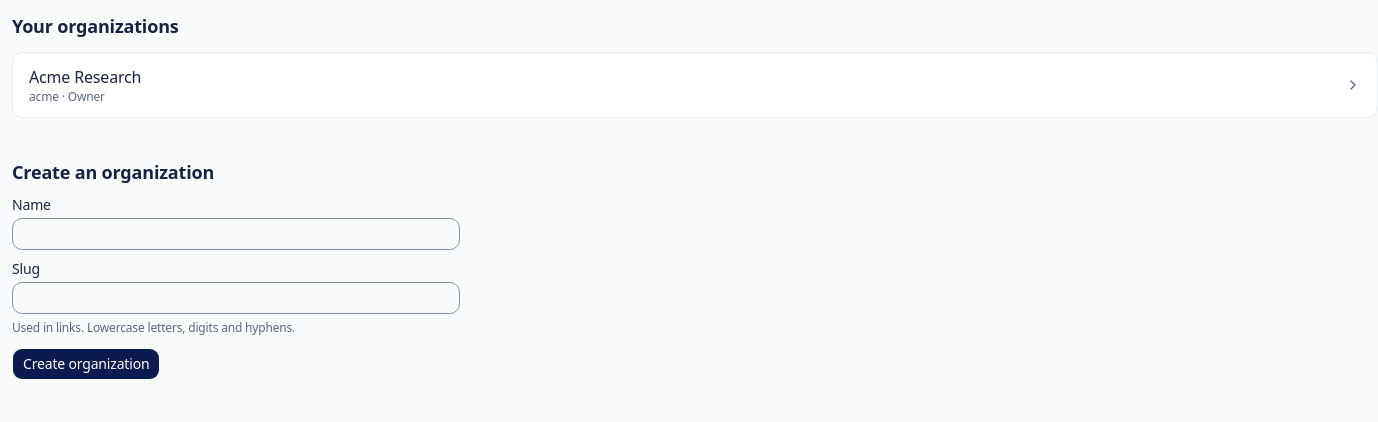
/home org directory › creates an org: 409 slug_taken is shown inline on the slug field, success navigates to the org
Later steps or results of the test are not shown.
Type "Acme Research" into the field labelled "Name".
click(236, 234); type("Acme Research")  # box left=12, top=218, right=460, bottom=250
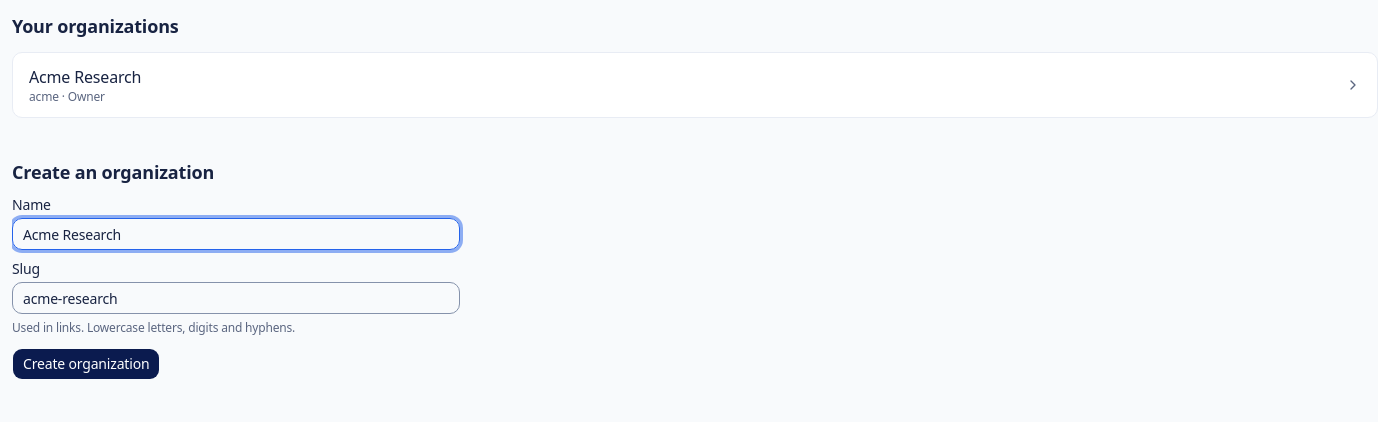
Result: the field labelled "Slug" holds "acme-research" at left=12, top=282, right=460, bottom=314
Click the button "Create organization".
click(86, 364)  # box left=12, top=348, right=160, bottom=380
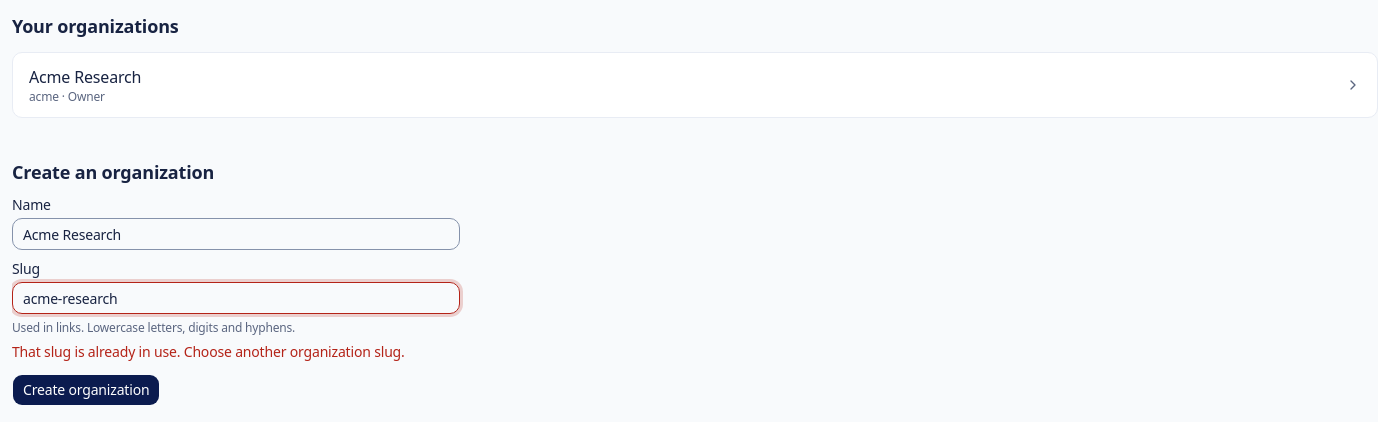
Result: the message shows "slug is already in use" at left=12, top=342, right=405, bottom=361
